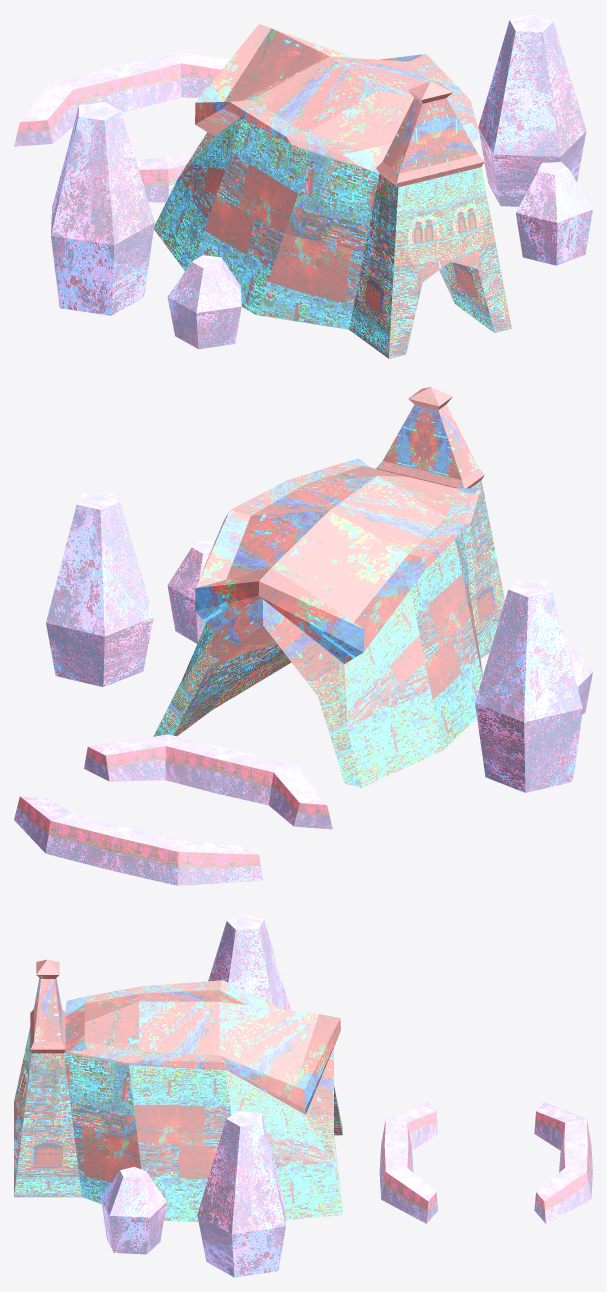
The model's file is castle_keep.glb.
3 renders of one model, top to bottom at view 1: azimuth 30°, elevation 25°; view 2: azimuth 150°, elevation 25°; view 3: azimuth 270°, elevation 25°, orthographic. The views are drawn at different scales.
Parts seen in each view (by area): view 1: keep_outpost, keep_rocks; view 2: keep_outpost, keep_rocks; view 3: keep_outpost, keep_rocks.
Boxes of the visible parts, bbox=[...] form: keep_outpost: bbox=[154, 24, 511, 358]; keep_rocks: bbox=[14, 14, 592, 349]; keep_outpost: bbox=[153, 387, 504, 787]; keep_rocks: bbox=[14, 491, 592, 885]; keep_outpost: bbox=[14, 959, 342, 1222]; keep_rocks: bbox=[101, 914, 592, 1277].
Size of the model in its own units: 27.69 by 12.46 by 30.73.
